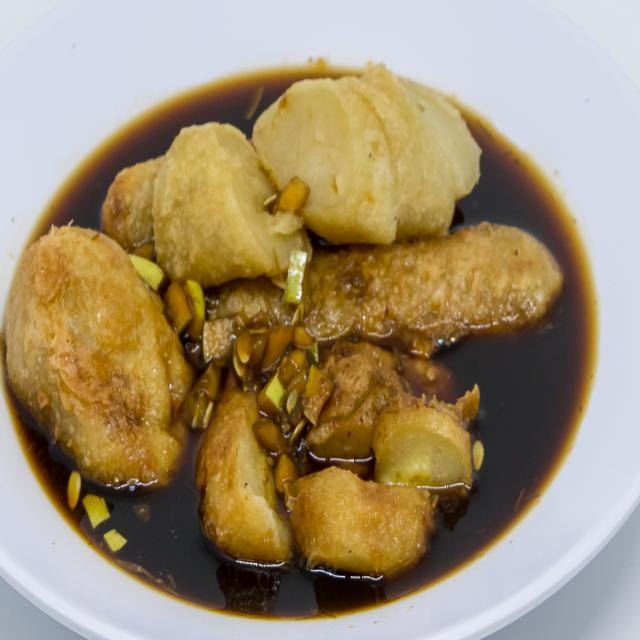Pempek-Palembang: (5, 54, 566, 589)
